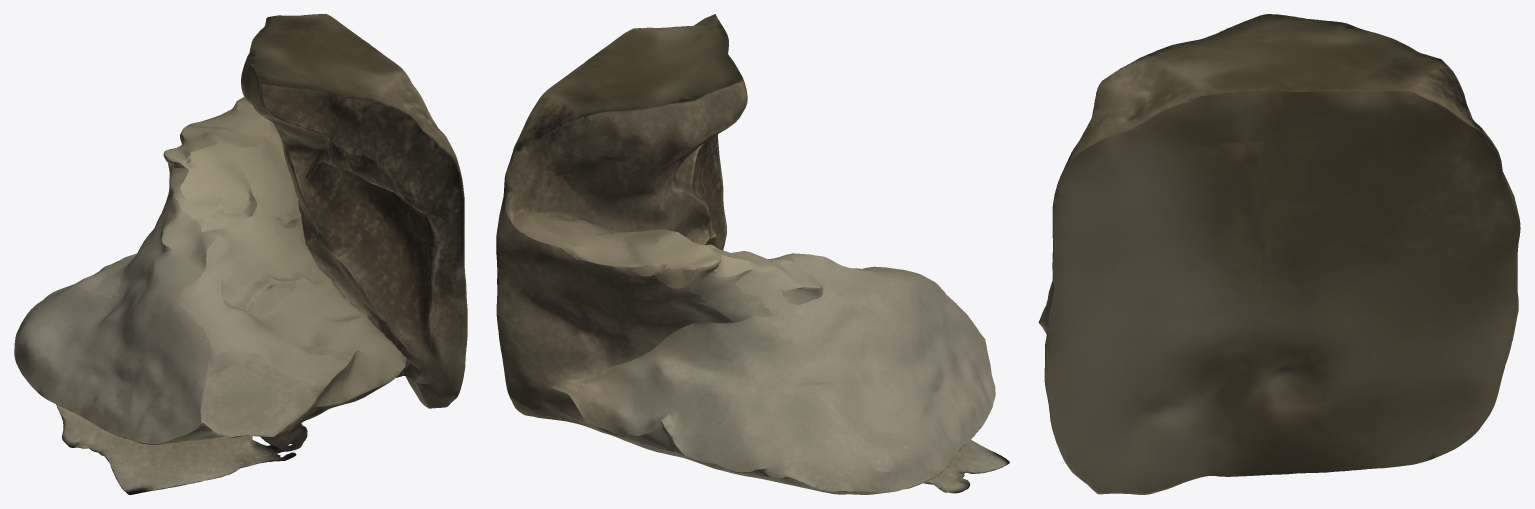
3 renders of one model, left to right at view 1: azimuth 30°, elevation 25°; view 2: azimuth 150°, elevation 25°; view 3: azimuth 270°, elevation 25°, orthographic. The views are drawn at different scales.
Parts seen in each view (by area): view 1: world; view 2: world; view 3: world.
Part boxes in pixels (x1,y1,x2,y2): world: (14,14,467,494); world: (496,14,1009,494); world: (1038,14,1520,494).
Bounding box in the file's own units: 0.8 × 0.7935 × 0.7991.
1 material, 1 textured.
